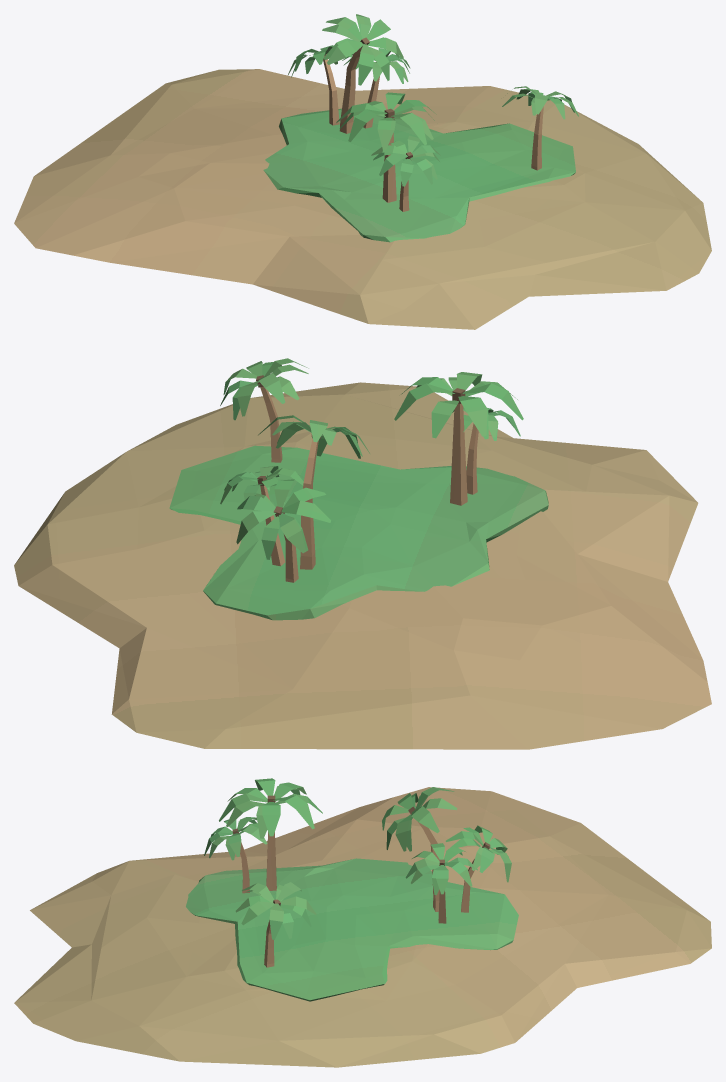
The model's file is island.gltf.
The picture shows the model from 3 angles, top to bottom: view 1: azimuth 30°, elevation 25°; view 2: azimuth 150°, elevation 25°; view 3: azimuth 270°, elevation 25°; orthographic projection. The views are drawn at different scales.
Visible parts, largest first — view 1: node-0; view 2: node-0; view 3: node-0.
Part boxes in pixels (x1=…): node-0: x1=14, y1=14, x2=711, y2=329; node-0: x1=14, y1=358, x2=711, y2=749; node-0: x1=14, y1=778, x2=711, y2=1067.
Bounding box in the file's own units: 47.54 × 12.34 × 49.93.
Materials: 1 (1 with a texture image).
